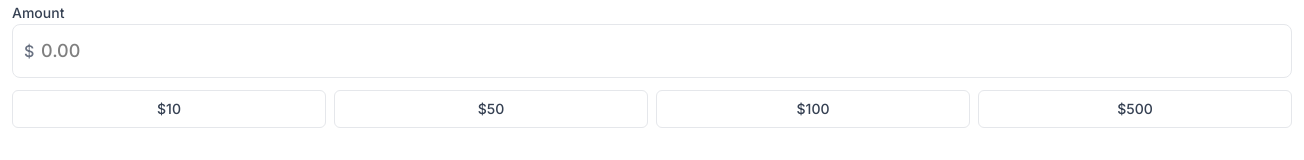
Test: TradeAmountInput › Quick Amount Buttons › updates input value when quick amount is selected
Click the button "$100" at (813, 109), box [656, 90, 970, 128]
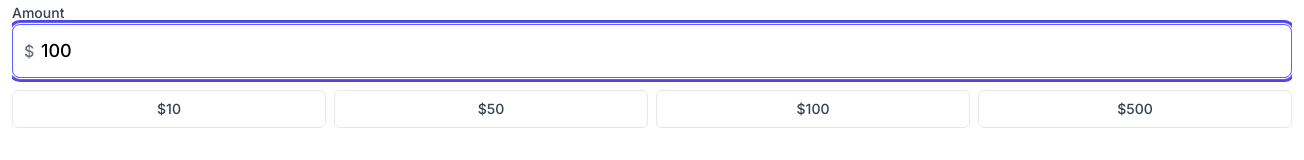
expect the field named "trade amount" holds "100": met, box [12, 24, 1292, 78]
